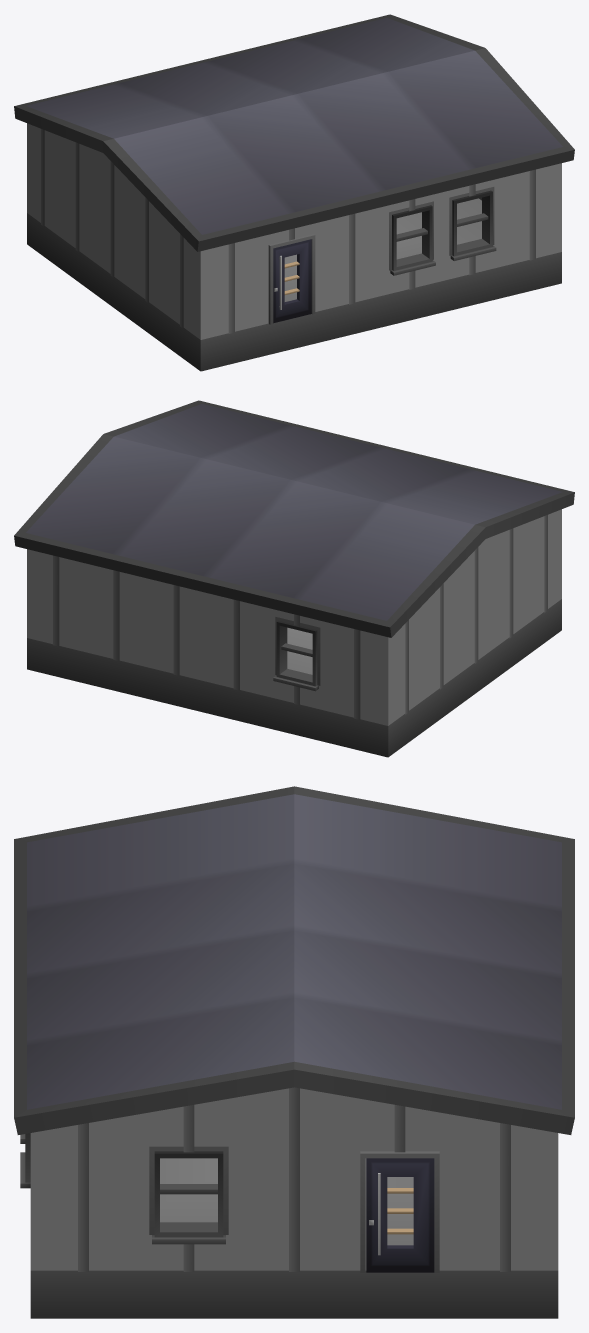
Rendered from Warehouse.fbx.
3 views of the same model, one above another, from view 1: azimuth 30°, elevation 25°; view 2: azimuth 150°, elevation 25°; view 3: azimuth 270°, elevation 25° (orthographic). The views are drawn at different scales.
Parts seen in each view (by area): view 1: Warehouse; view 2: Warehouse; view 3: Warehouse.
Boxes of the visible parts, x1,y1,x2,y2 form: Warehouse: [14, 14, 574, 371]; Warehouse: [14, 400, 574, 757]; Warehouse: [14, 786, 574, 1318].
Bounding box in the file's own units: 12.7 × 5.37 × 10.63.
1 material, 1 textured.
